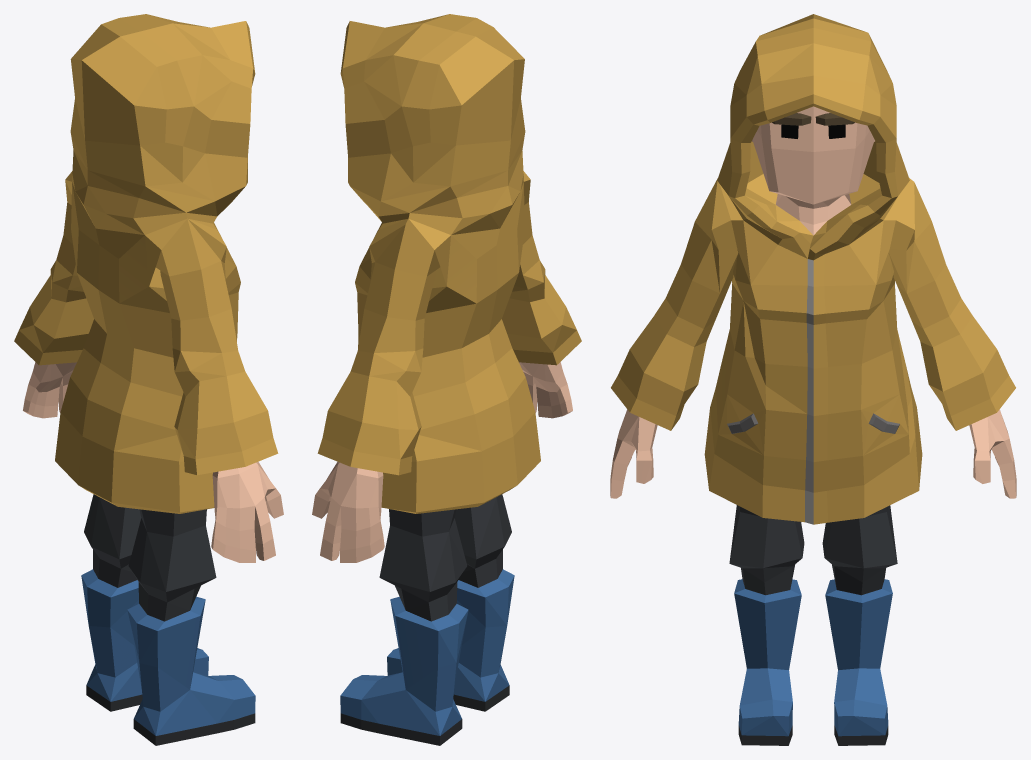
The model's file is child_marker.glb.
The picture shows the model from 3 angles, left to right: view 1: azimuth 30°, elevation 25°; view 2: azimuth 150°, elevation 25°; view 3: azimuth 270°, elevation 25°; orthographic projection.
Visible parts, largest first — view 1: child; view 2: child; view 3: child.
Boxes of the visible parts, x1=… form: child: x1=14, y1=14, x2=283, y2=745; child: x1=312, y1=14, x2=581, y2=745; child: x1=610, y1=14, x2=1016, y2=745.
Size of the model in its own units: 0.308 by 1.18 by 0.6384.
Materials: 1 (1 with a texture image).
